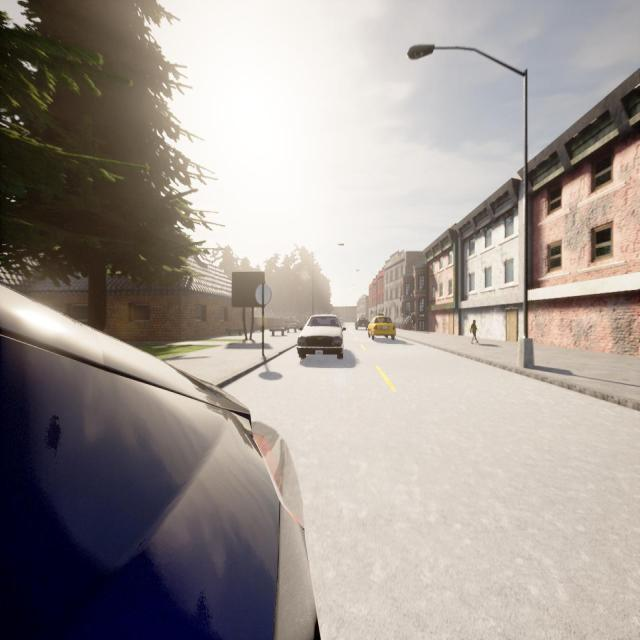Pedestrian: (470, 320, 478, 344), (410, 312, 418, 330)
Traffic_Signs: (255, 283, 272, 306)
Vehicle: (0, 287, 318, 640), (298, 314, 346, 359), (368, 316, 396, 340), (355, 316, 368, 330)
